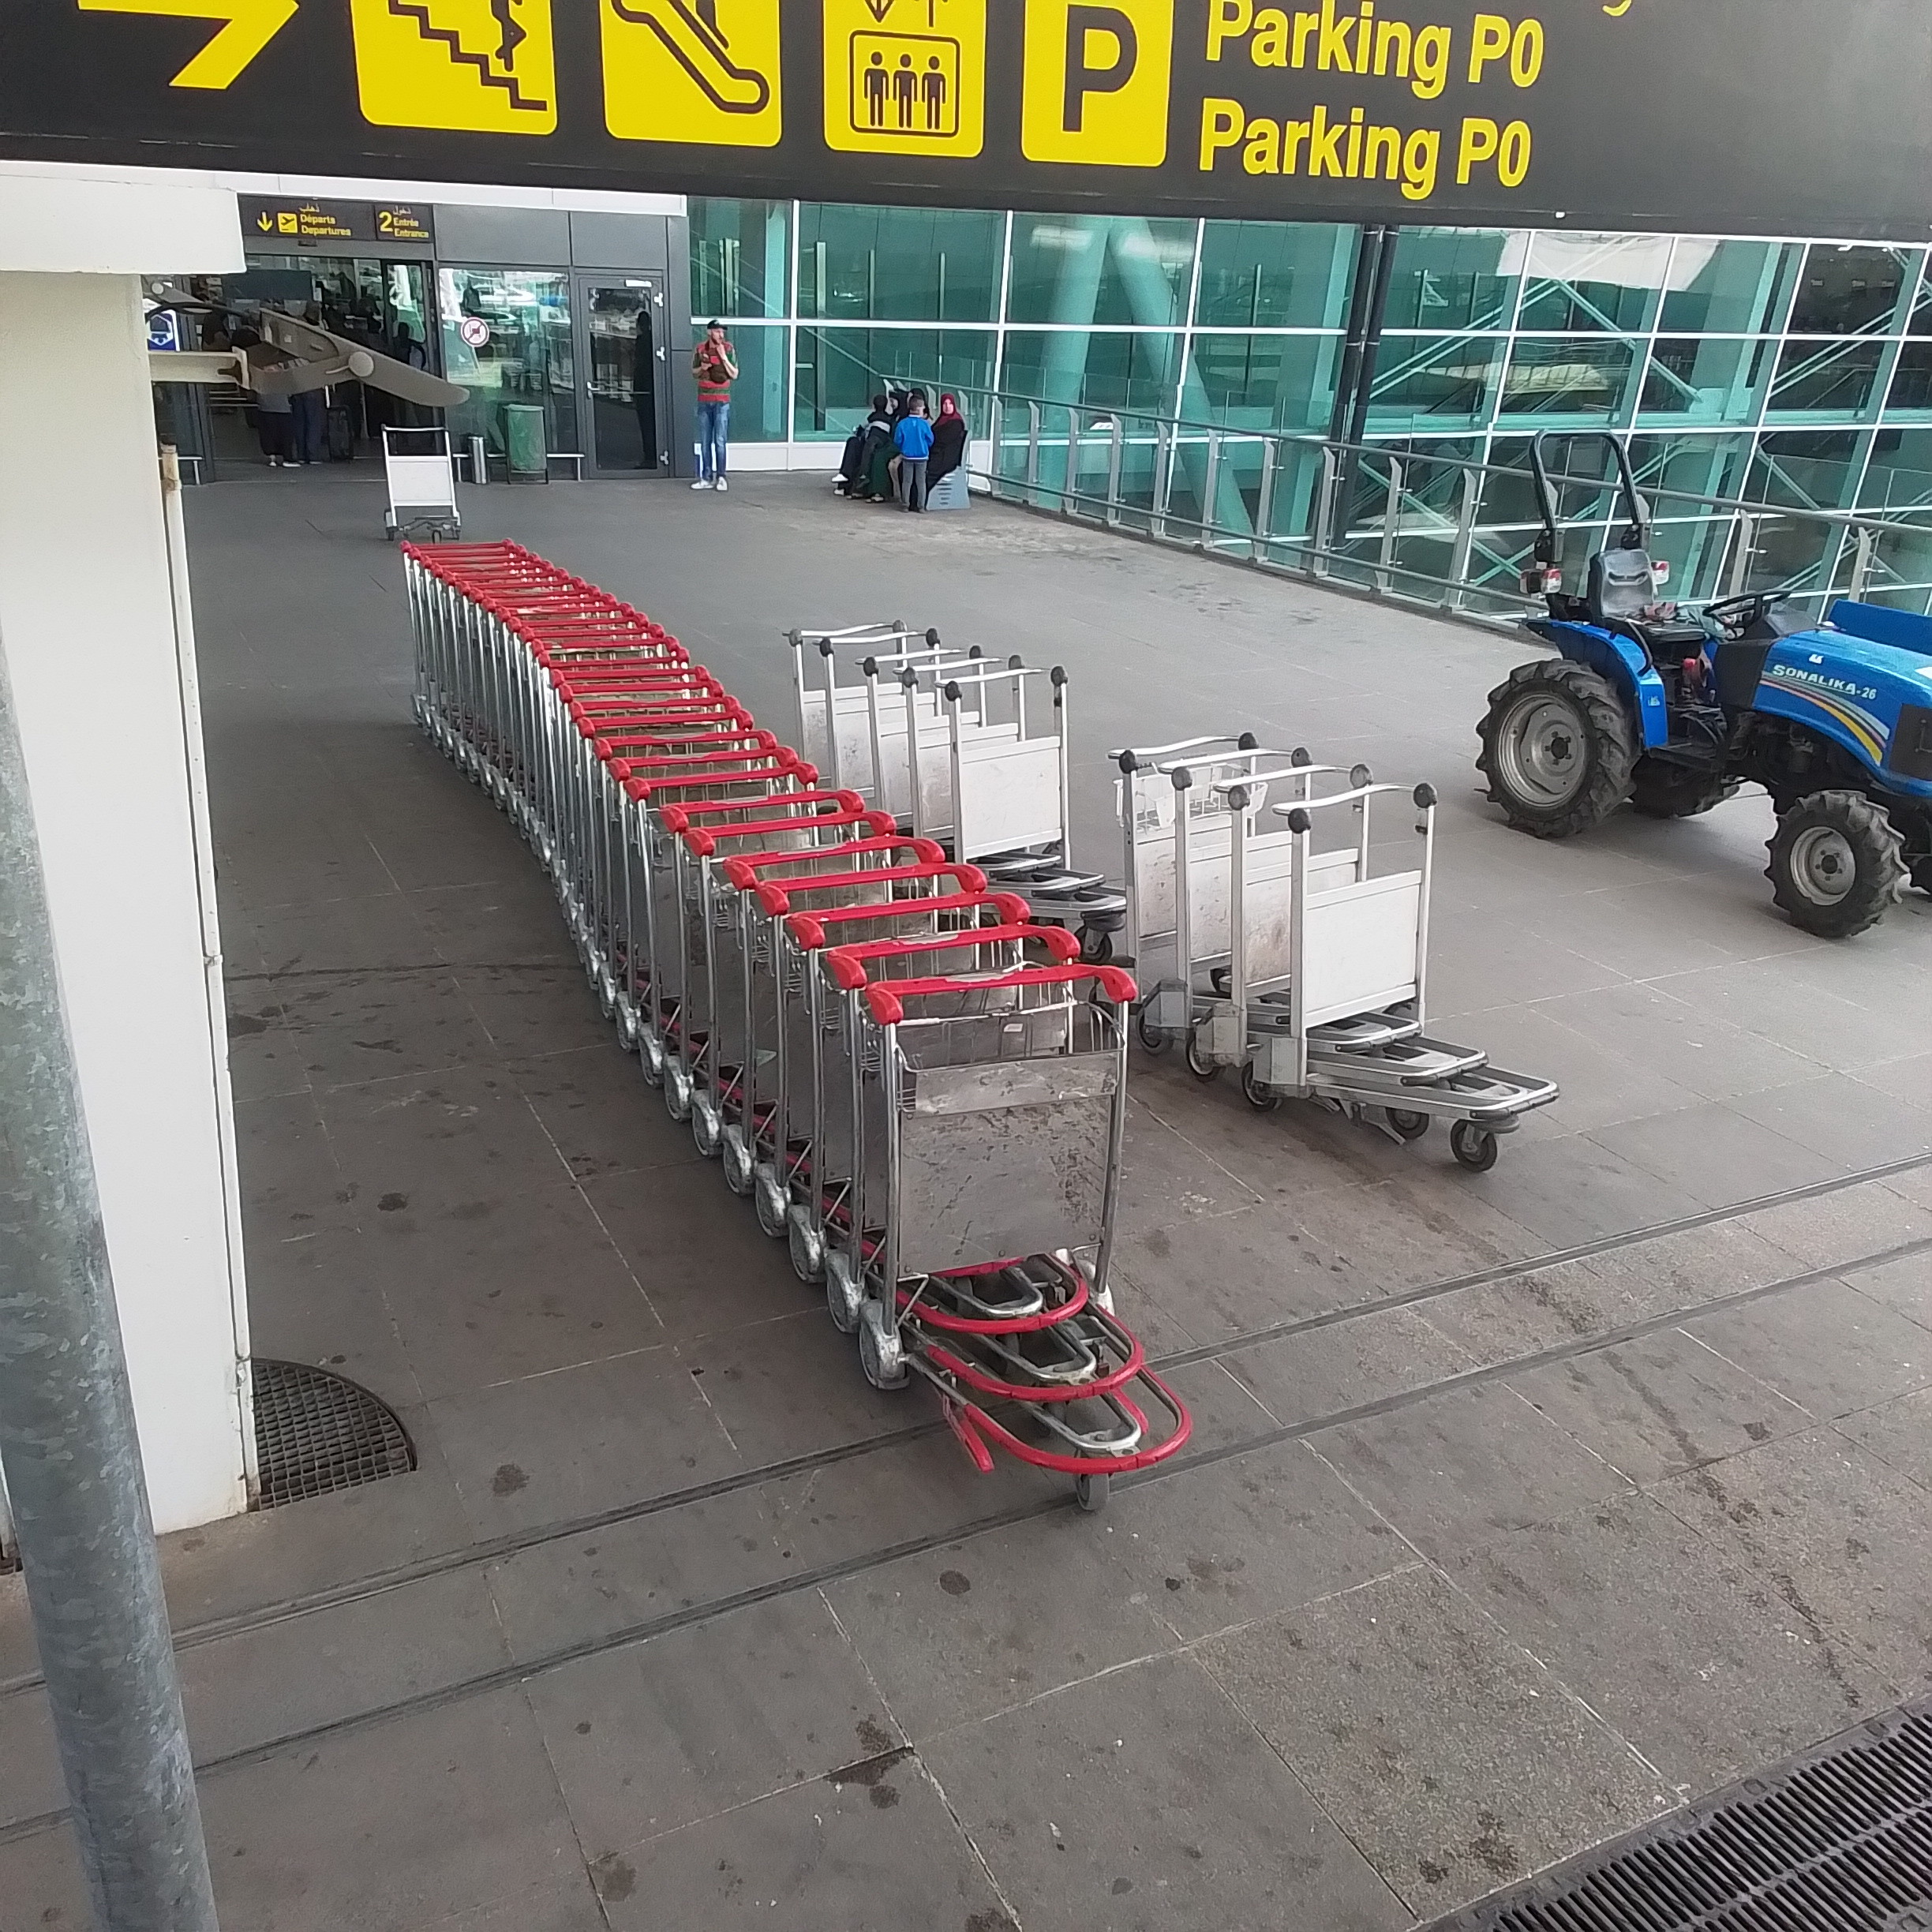airport-trolley: (865, 968, 1146, 1403), (821, 936, 1086, 1323), (780, 895, 1058, 1246), (761, 876, 994, 1251), (722, 840, 954, 1207), (690, 814, 931, 1164), (658, 798, 879, 1104), (1277, 782, 1481, 1109), (1208, 763, 1414, 1083), (635, 768, 832, 1100), (610, 747, 809, 1054), (1162, 750, 1364, 1047), (586, 734, 796, 1001), (571, 715, 745, 968), (1111, 729, 1253, 1035), (950, 669, 1086, 911), (897, 656, 1047, 865), (816, 633, 973, 805), (856, 649, 1003, 832), (793, 621, 920, 782), (384, 421, 464, 548), (862, 1175, 870, 1185)
